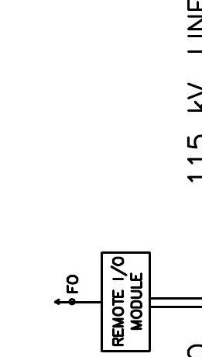remote_io_module: (101, 251, 151, 353)
